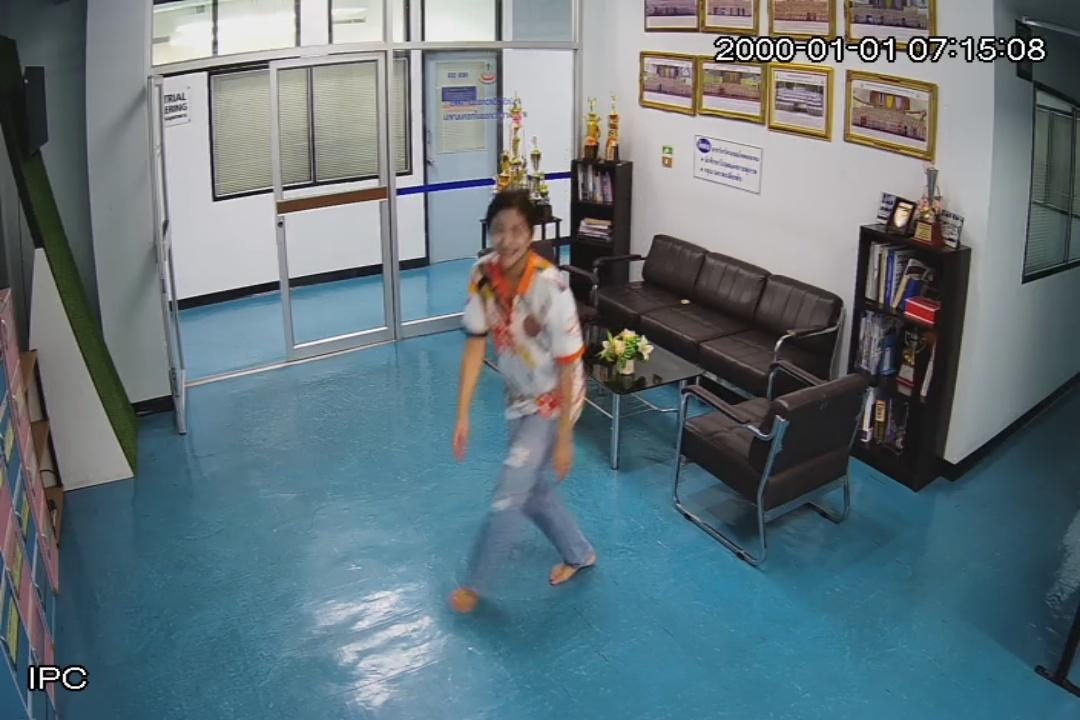normal: (444, 191, 600, 613)
